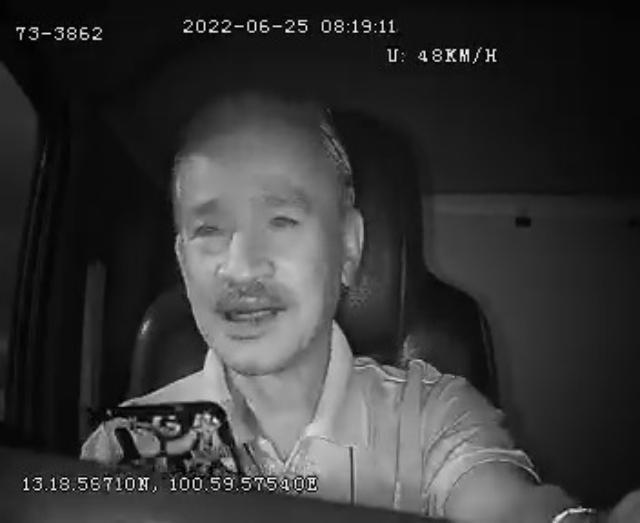PhoneUse: (102, 398, 244, 474)
SafeDriving: (183, 205, 234, 250), (260, 195, 308, 237)
